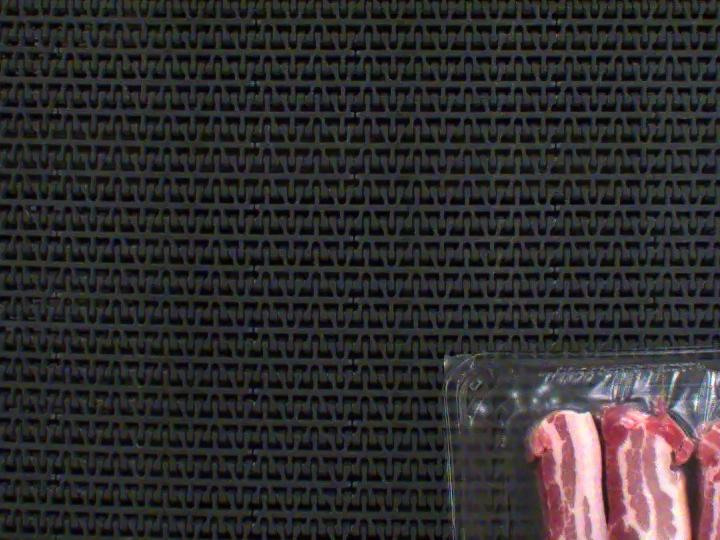unsealed: (482, 348, 720, 540)
